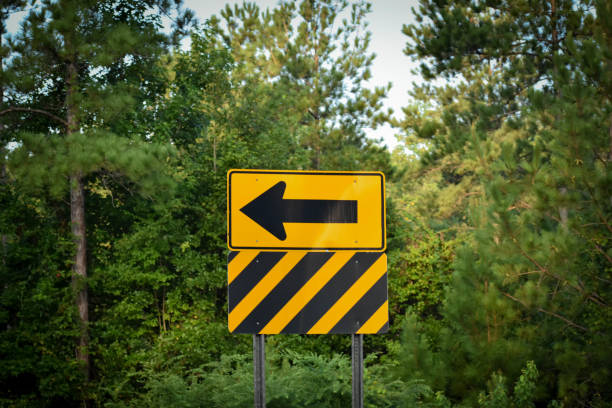left turn: (227, 172, 382, 249)
